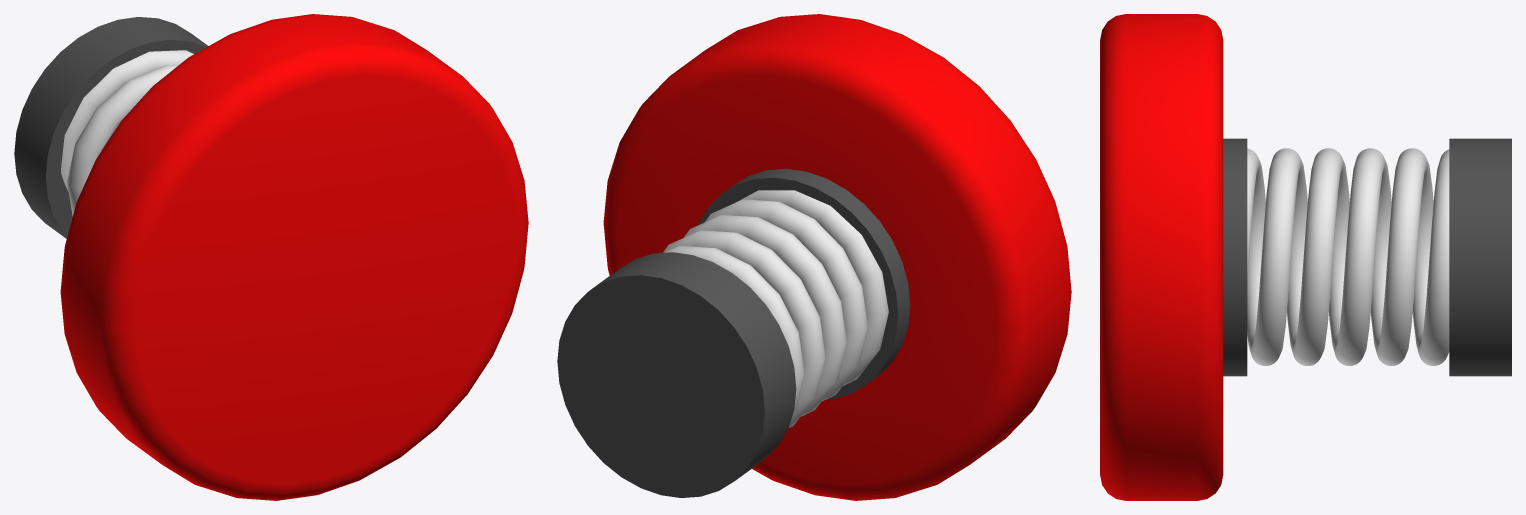
Rendered from Pad_bumper_Spring_Metal_Red.glb.
3 views of the same model, side by side, from view 1: azimuth 30°, elevation 25°; view 2: azimuth 150°, elevation 25°; view 3: azimuth 270°, elevation 25° (orthographic).
Visible parts, largest first — view 1: Pad_bumper_Spring_Metal_Red; view 2: Pad_bumper_Spring_Metal_Red; view 3: Pad_bumper_Spring_Metal_Red.
Boxes of the visible parts, box(x1,y1,x2,y2) form: Pad_bumper_Spring_Metal_Red: box(14, 14, 528, 500); Pad_bumper_Spring_Metal_Red: box(557, 14, 1071, 500); Pad_bumper_Spring_Metal_Red: box(1100, 14, 1511, 500).
Size of the model in its own units: 3.96 by 3.96 by 3.34.
